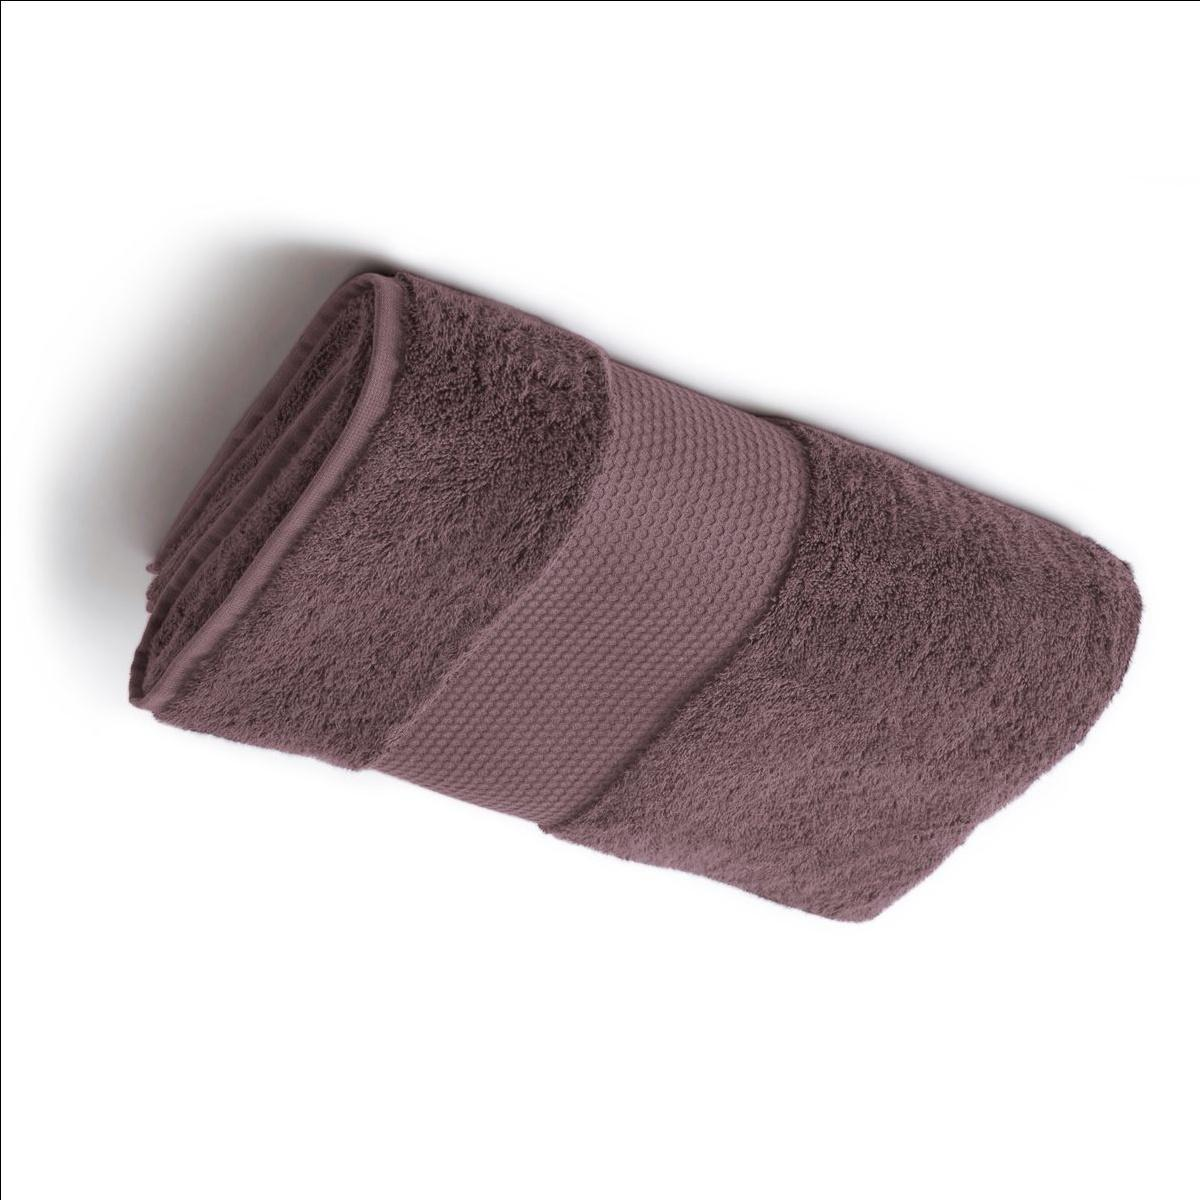towel: (57, 249, 1155, 1012)
